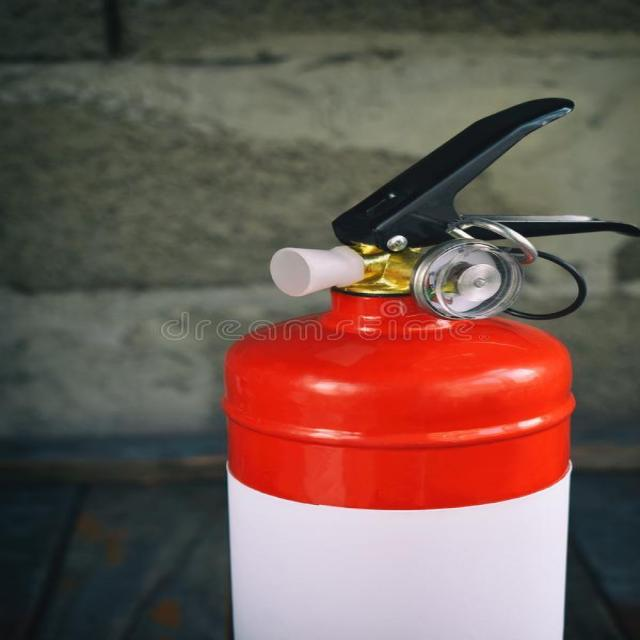fire_extinguisher: (209, 93, 639, 639)
